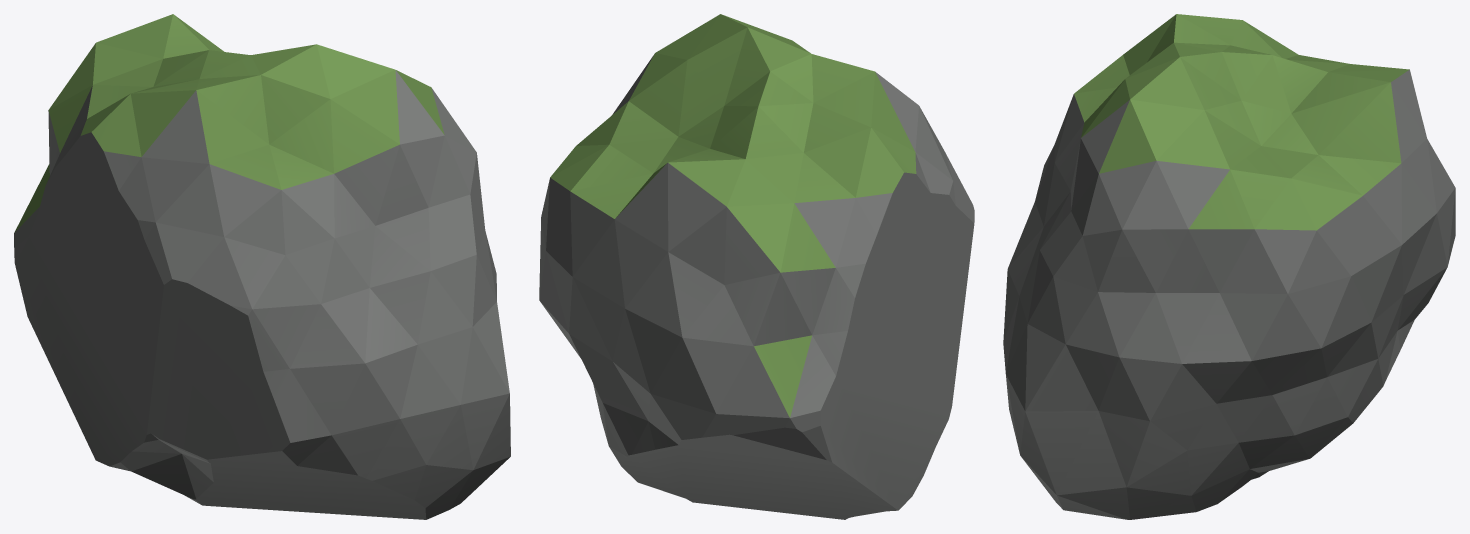
Rendered from obj_roca_grande_2.glb.
3 views of the same model, side by side, from view 1: azimuth 30°, elevation 25°; view 2: azimuth 150°, elevation 25°; view 3: azimuth 270°, elevation 25° (orthographic). The views are drawn at different scales.
Parts seen in each view (by area): view 1: propforge-libre-roca_grande; view 2: propforge-libre-roca_grande; view 3: propforge-libre-roca_grande.
Part boxes in pixels (bbox=[...]): propforge-libre-roca_grande: bbox=[14, 14, 510, 519]; propforge-libre-roca_grande: bbox=[539, 14, 974, 519]; propforge-libre-roca_grande: bbox=[1003, 14, 1455, 519].
Size of the model in its own units: 1.02 by 1.21 by 1.19.
